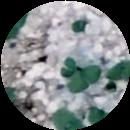Basil: (69, 67, 103, 91), (53, 112, 84, 130), (107, 58, 130, 80), (63, 58, 76, 80)
